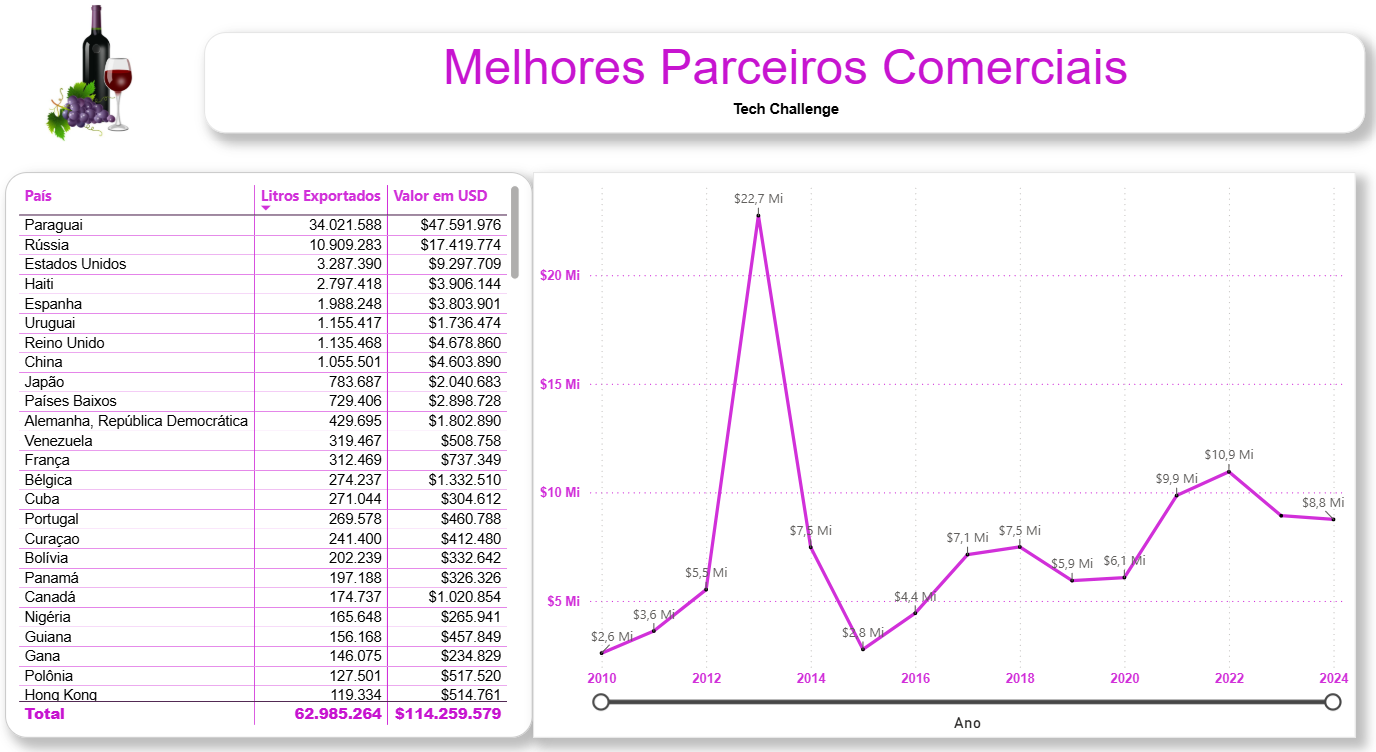

This screenshot's page, from the dashboard's own definition file:
{"tool":"powerbi","page":{"name":"Top ","canvas":[1280,720],"ordinal":4},"visuals":[{"type":"tableEx","fields":{"Values":["Exportacao.País","Sum(Exportacao.Litros exportados)","Sum(Exportacao.Valor em USD)"]},"box":[15.6,172.2,485.3,520.4],"z":0},{"type":"lineChart","fields":{"Y":["Sum(Exportacao.Valor em USD)"],"Category":["Exportacao.Ano"]},"box":[501.1,172.2,755.6,520],"z":1000},{"type":"textbox","title":"Melhores Parceiros Comerciais","box":[198.4,42.8,1067,93.4],"z":2000},{"type":"image","box":[12.6,6.8,160.5,148.8],"z":3000}]}

Visuals, with their boxes in screenshot pixels (x1, y1, x2, y2), scaled from the page's 1280x720 canvas onto the 1376x752 screenshot:
tableEx - Exportacao.País x Sum(Exportacao.Litros exportados): 17,180,538,723
lineChart - Sum(Exportacao.Valor em USD) x Exportacao.Ano: 539,180,1351,723
"Melhores Parceiros Comerciais" textbox: 213,45,1360,142
image: 14,7,186,163
